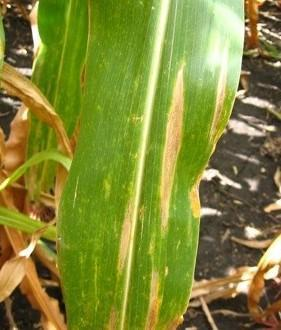Corn_Blight: (1, 45, 86, 180), (207, 30, 247, 156), (166, 49, 191, 234), (103, 191, 154, 281), (141, 265, 181, 324)
